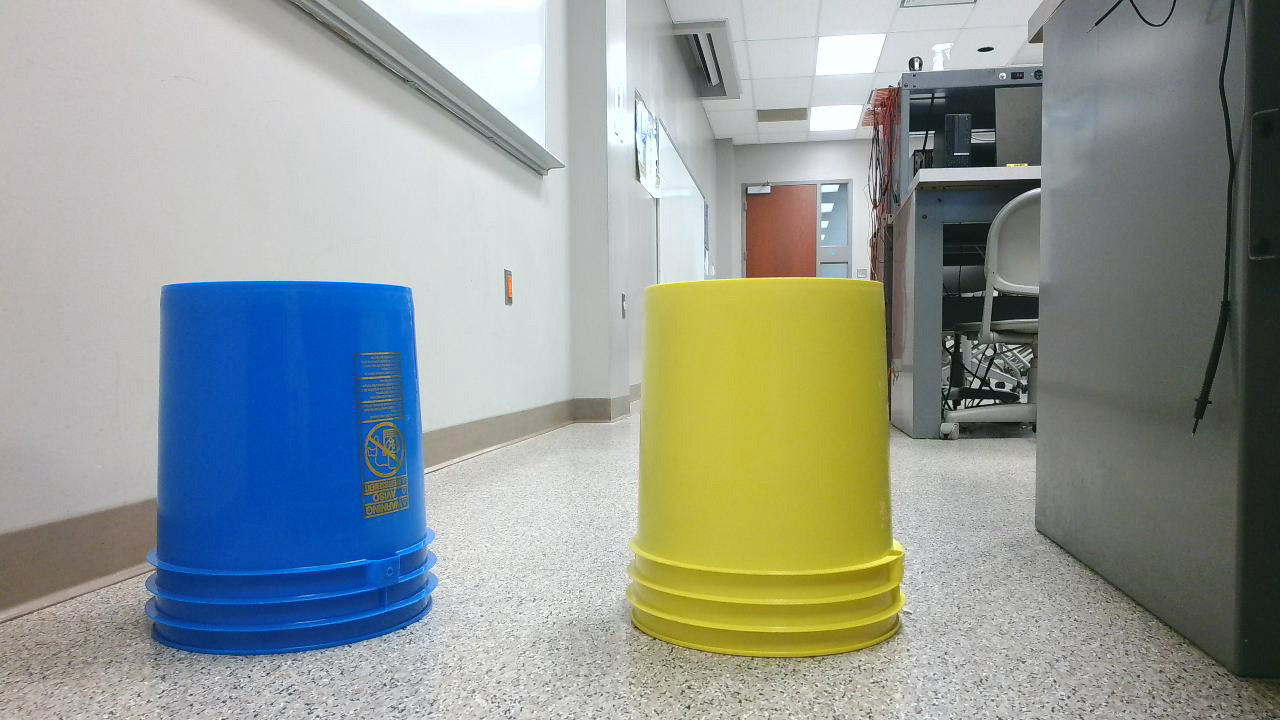blue_bucket: (140, 281, 448, 666)
yellow_bucket: (621, 277, 917, 669)
